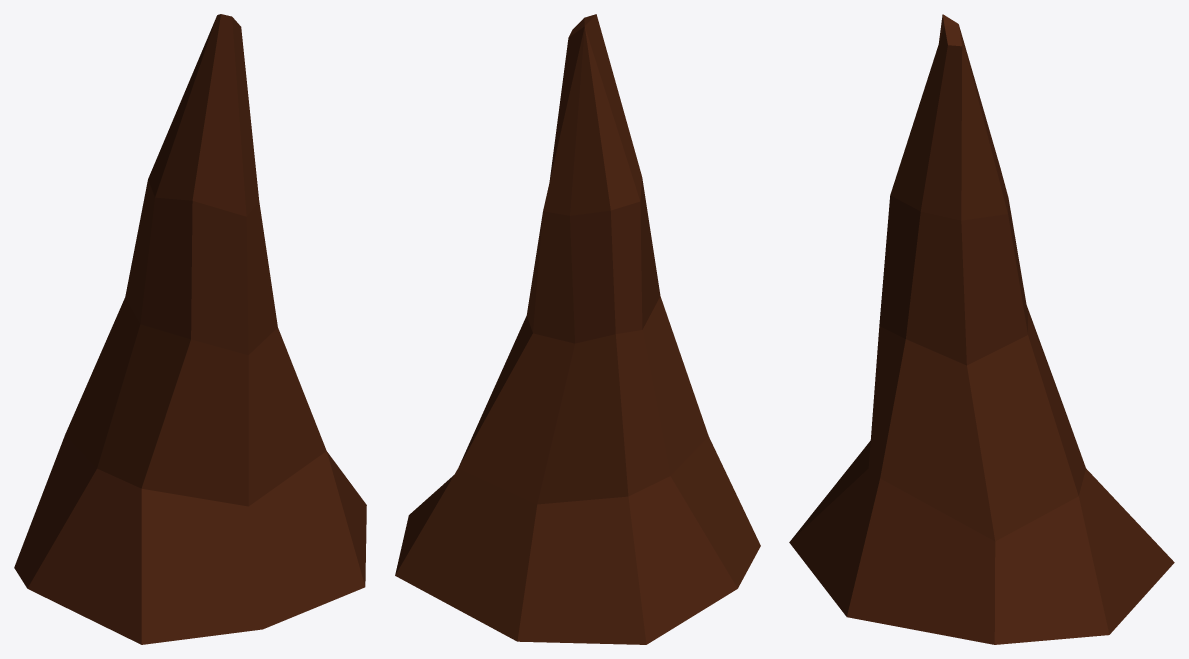
File: Stalactite3.fbx
The picture shows the model from 3 angles, left to right: view 1: azimuth 30°, elevation 25°; view 2: azimuth 150°, elevation 25°; view 3: azimuth 270°, elevation 25°; orthographic projection. The views are drawn at different scales.
Parts seen in each view (by area): view 1: Cube.002; view 2: Cube.002; view 3: Cube.002.
Boxes of the visible parts, bbox=[...] form: Cube.002: bbox=[14, 14, 366, 644]; Cube.002: bbox=[395, 14, 760, 644]; Cube.002: bbox=[789, 14, 1174, 644].
Bounding box in the file's own units: 199 × 323 × 195.
